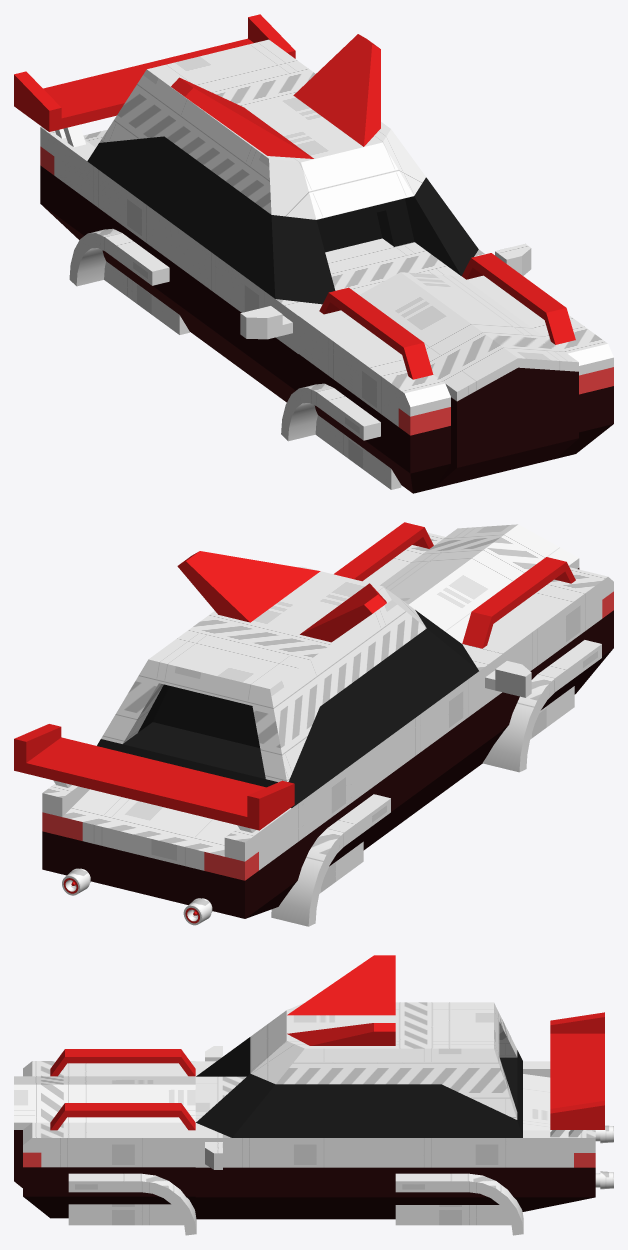
The model's file is AICar.fbx.
3 renders of one model, top to bottom at view 1: azimuth 30°, elevation 25°; view 2: azimuth 150°, elevation 25°; view 3: azimuth 270°, elevation 25°, orthographic. The views are drawn at different scales.
Visible parts, largest first — view 1: mergedBlocks; view 2: mergedBlocks; view 3: mergedBlocks.
Boxes of the visible parts, left/top/right/bottom form: mergedBlocks: left=14, top=14, right=613, bottom=493; mergedBlocks: left=14, top=522, right=613, bottom=926; mergedBlocks: left=14, top=955, right=613, bottom=1235.
Size of the model in its own units: 140 by 121 by 330.
